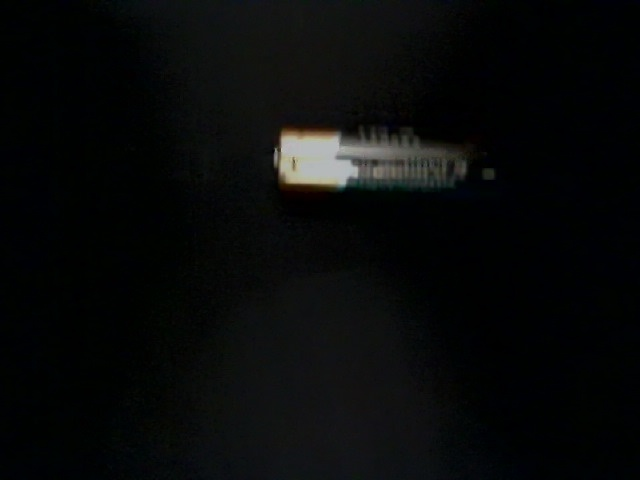QTLJ: (85, 50, 291, 199)
